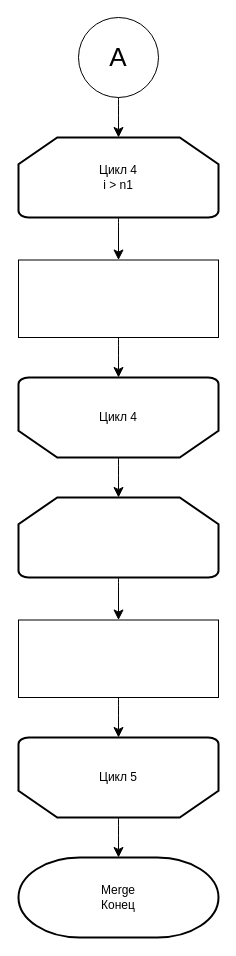
The diagram is 236 pixels wide and 956 high, and some of its shapes have lost their labels. The shapes that lost their labels are listed below. From the top down, each one's centre as x and y in pixels, then its label:
the point at 118,298: data[k] := L[i] Inc(i) Inc(k)
the point at 118,537: Цикл 5 j > n2
the point at 118,658: data[k] := R[j] Inc(j) Inc(k)
